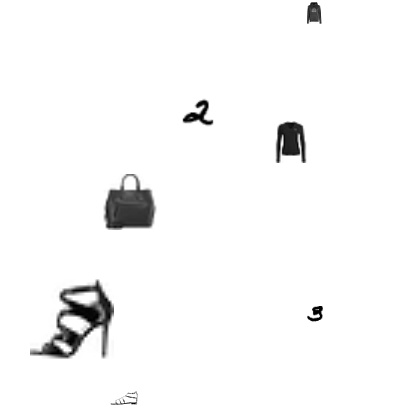2: (177, 93, 219, 135)
3: (305, 302, 327, 324)
Bag: (102, 174, 158, 230)
Pullover: (270, 121, 312, 163), (303, 2, 325, 24)
Sandal: (30, 277, 114, 361), (110, 384, 138, 412)
